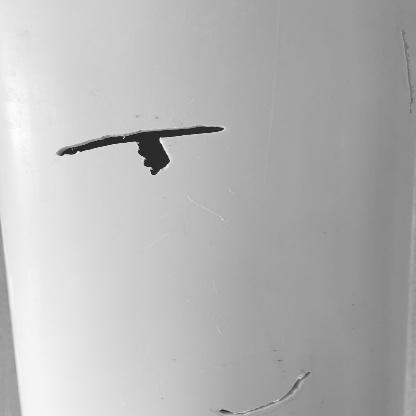fengxi: (56, 125, 233, 157), (216, 366, 317, 416)
kongdong: (137, 143, 168, 181)
